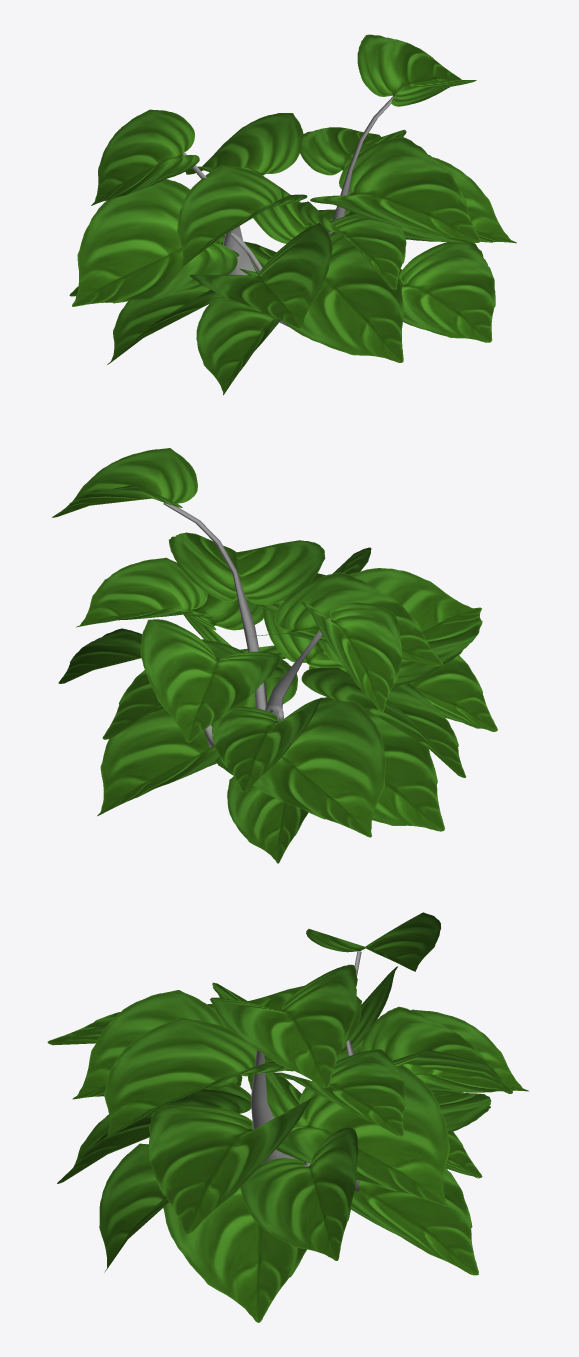
Rendered from Environment_Mesh_Bush2.FBX.
The picture shows the model from 3 angles, top to bottom: view 1: azimuth 30°, elevation 25°; view 2: azimuth 150°, elevation 25°; view 3: azimuth 270°, elevation 25°; orthographic projection. The views are drawn at different scales.
Parts seen in each view (by area): view 1: DwarfPlant2; view 2: DwarfPlant2; view 3: DwarfPlant2.
Part boxes in pixels (x1,y1,x2,y2): DwarfPlant2: (69,34,516,395); DwarfPlant2: (52,448,497,863); DwarfPlant2: (47,912,529,1322).
Bounding box in the file's own units: 141 × 86.58 × 122.
